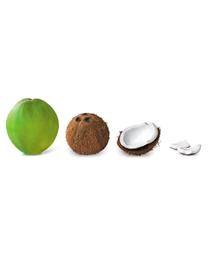coconut: (6, 98, 59, 155), (65, 112, 109, 156), (115, 120, 162, 157)
